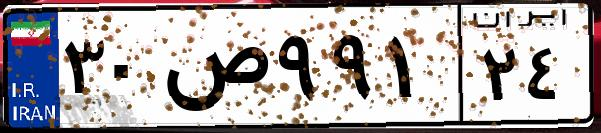0: (110, 28, 158, 98)
1: (385, 28, 445, 110)
2: (475, 38, 525, 113)
3: (57, 26, 110, 100)
4: (525, 38, 570, 115)
9: (270, 28, 330, 110), (330, 28, 385, 110)
ص: (158, 20, 270, 120)
